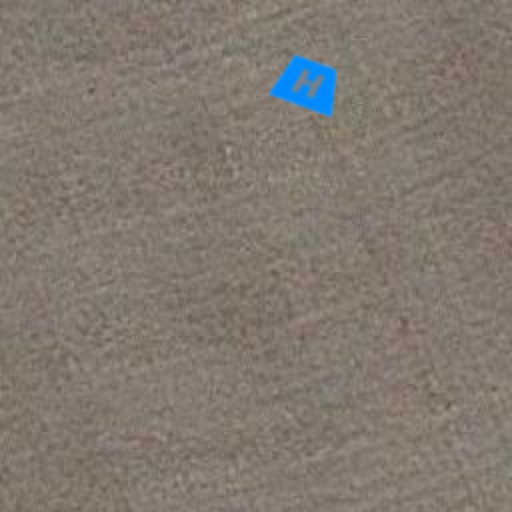trapezoid: (264, 40, 352, 128)
